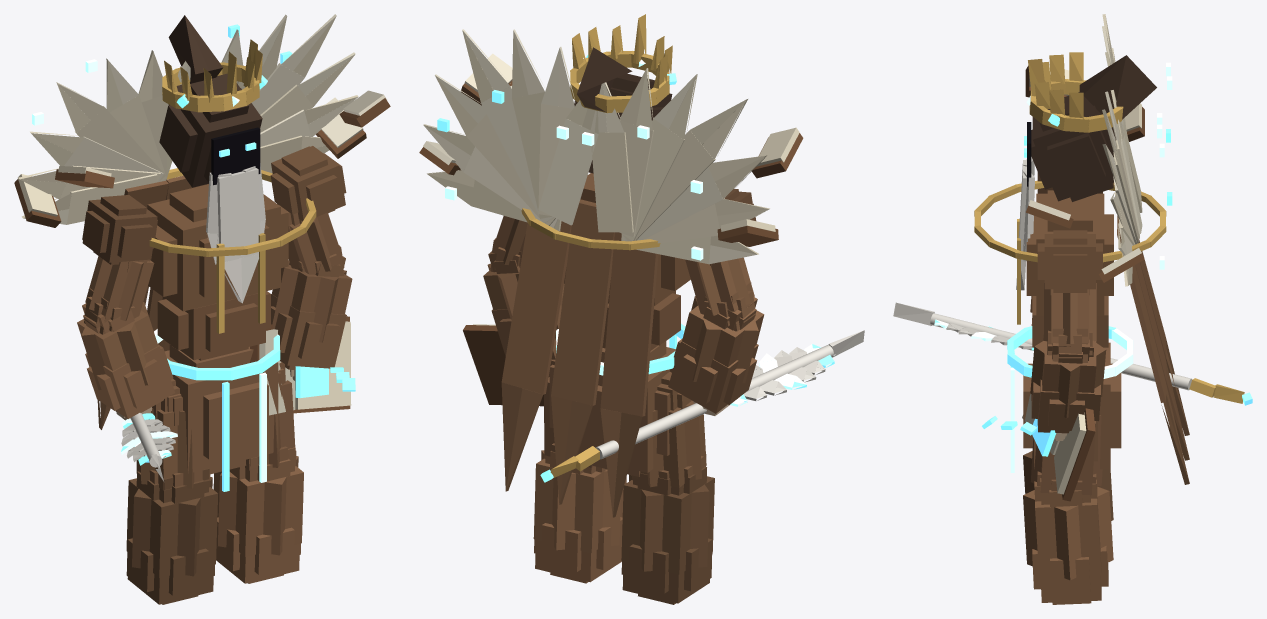
3 views of the same model, side by side, from view 1: azimuth 30°, elevation 25°; view 2: azimuth 150°, elevation 25°; view 3: azimuth 270°, elevation 25° (orthographic). The views are drawn at different scales.
Visible parts, largest first — view 1: ArchiveKeeper; view 2: ArchiveKeeper; view 3: ArchiveKeeper.
Part boxes in pixels (x1=…): ArchiveKeeper: x1=14, y1=14, x2=390, y2=604; ArchiveKeeper: x1=419, y1=14, x2=864, y2=604; ArchiveKeeper: x1=893, y1=14, x2=1252, y2=604.
Bounding box in the file's own units: 1.02 × 1.57 × 0.9784.
